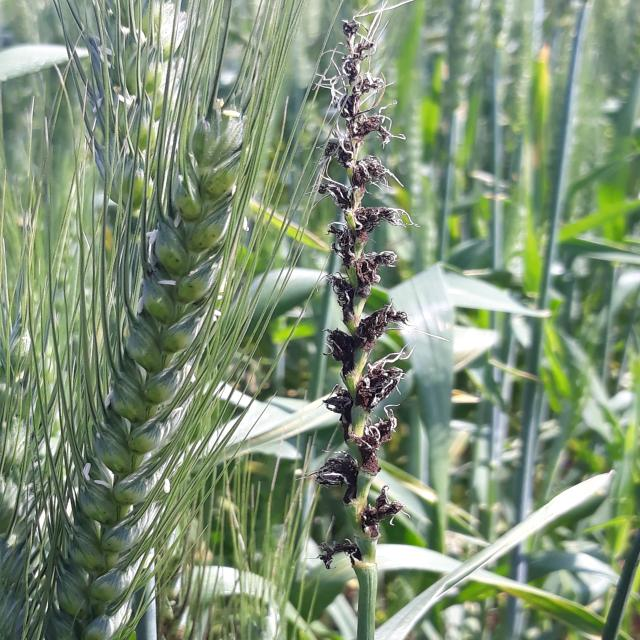loose_charred: (276, 15, 478, 573)
